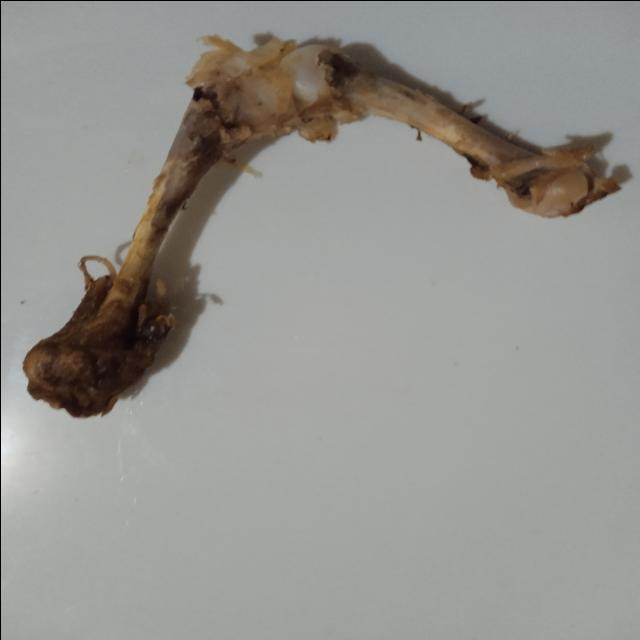bone: (8, 19, 640, 430)
